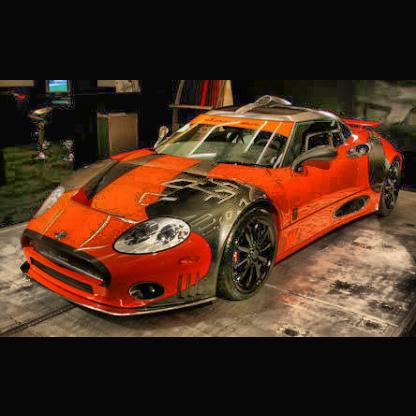Spyker C8 Convertible 2009: (19, 93, 407, 322)
